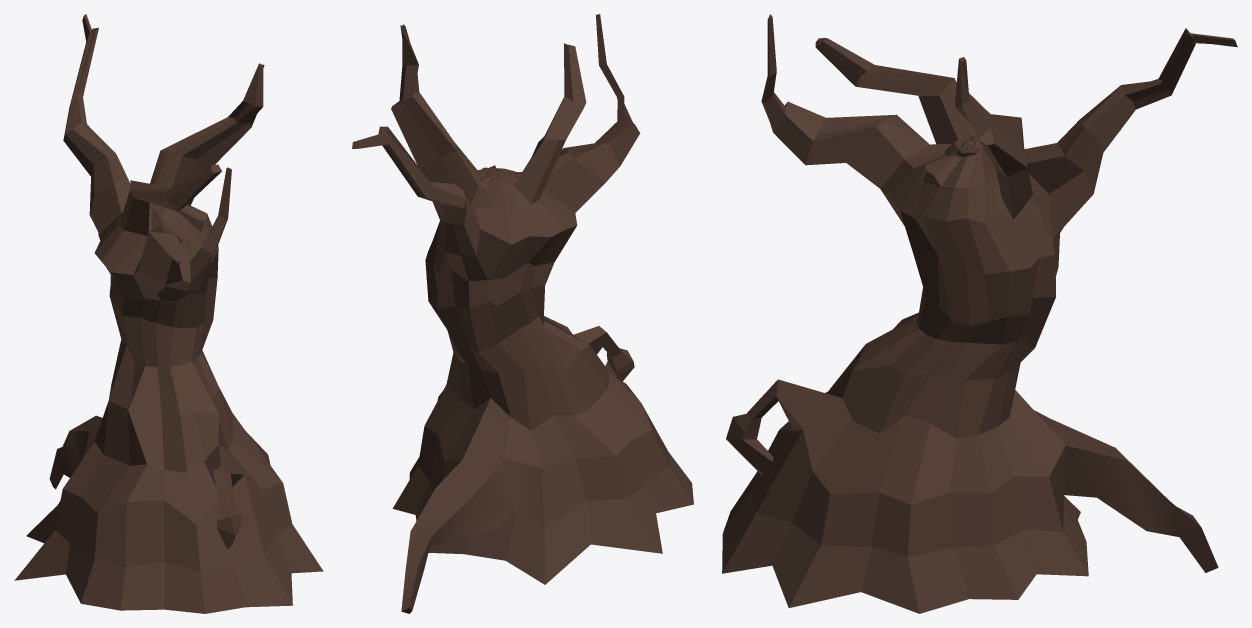
File: fbxbigtree1.fbx
3 views of the same model, side by side, from view 1: azimuth 30°, elevation 25°; view 2: azimuth 150°, elevation 25°; view 3: azimuth 270°, elevation 25° (orthographic). The views are drawn at different scales.
Visible parts, largest first — view 1: creepyTree; view 2: creepyTree; view 3: creepyTree.
Part boxes in pixels (x1=…): creepyTree: x1=14, y1=14, x2=323, y2=613; creepyTree: x1=352, y1=14, x2=693, y2=613; creepyTree: x1=722, y1=14, x2=1237, y2=613.
Bounding box in the file's own units: 7.45 × 12.96 × 10.46.
